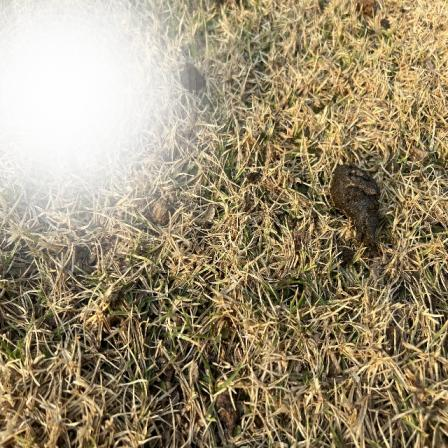dog-poop: (326, 163, 386, 250)
